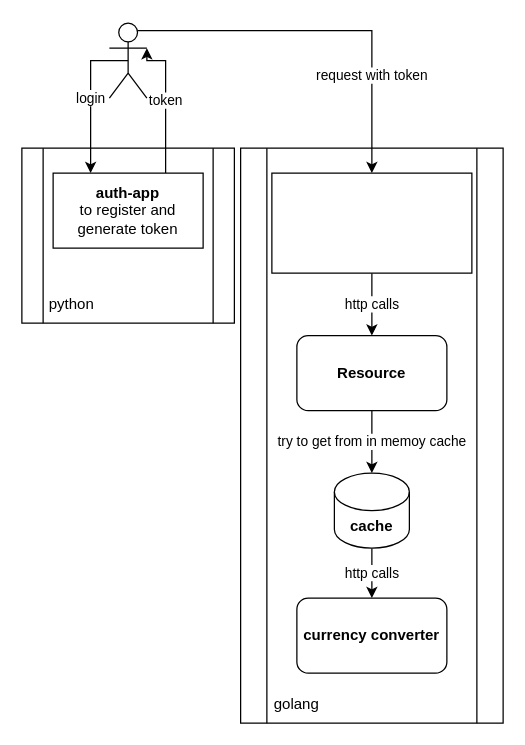
The diagram is 525 pixels wide and 745 high, and some of its shapes have lost their labels. Here are the shapes that lost their labels. From the top down, the centre of each, then its label:
the point at 127,60: Actor
the point at 371,222: fetch-app to get data from resource authenticated using token
